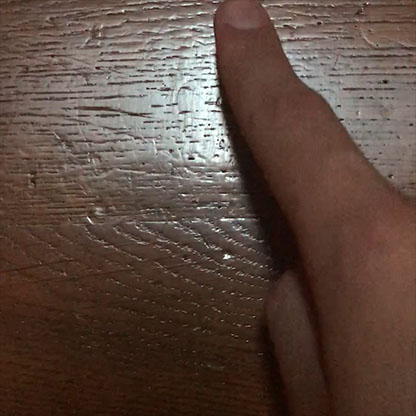fingertip: (204, 1, 286, 60)
